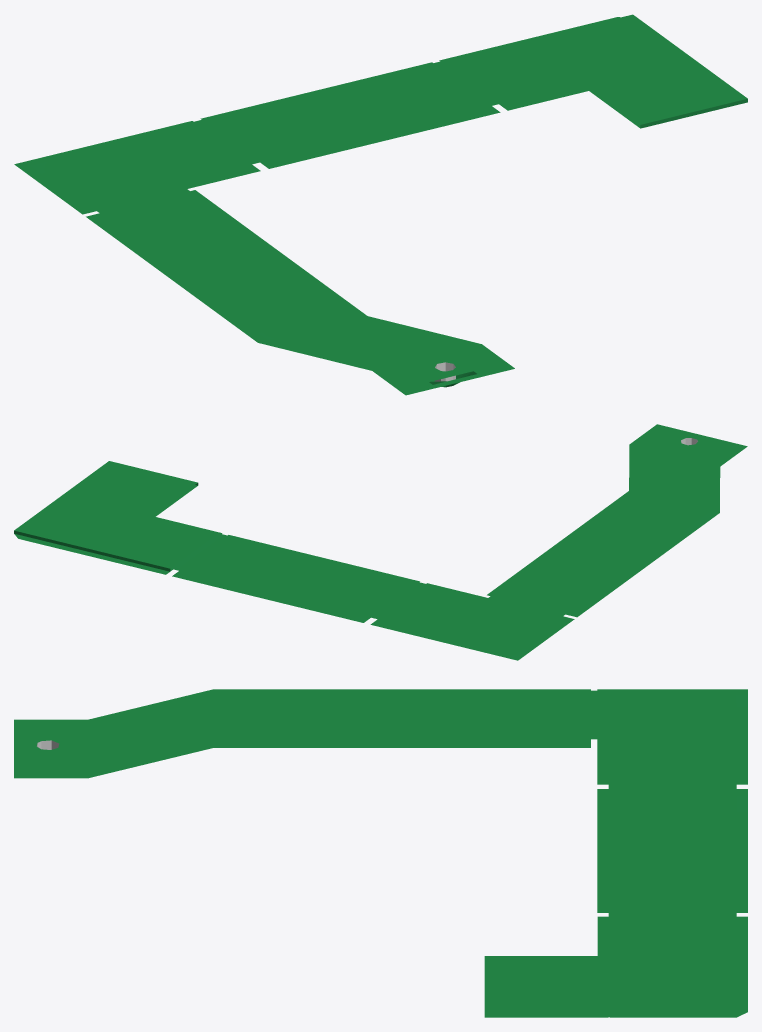
Rendered from CourseGreen2.fbx.
3 renders of one model, top to bottom at view 1: azimuth 30°, elevation 25°; view 2: azimuth 150°, elevation 25°; view 3: azimuth 270°, elevation 25°, orthographic. The views are drawn at different scales.
Visible parts, largest first — view 1: Cube.015; view 2: Cube.015; view 3: Cube.015.
Part boxes in pixels (x1,y1,x2,y2): Cube.015: [14, 14, 747, 395]; Cube.015: [14, 424, 747, 660]; Cube.015: [14, 689, 747, 1017].
Size of the model in its own units: 1549 by 38.37 by 1463.
